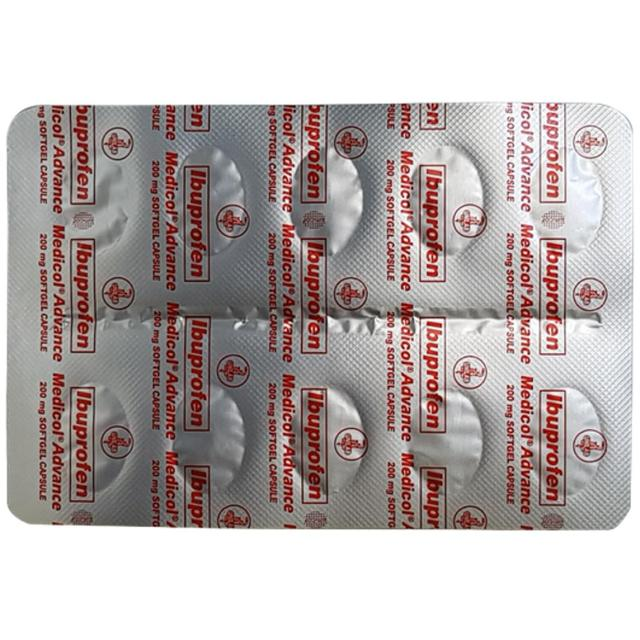blister: (3, 98, 634, 535)
